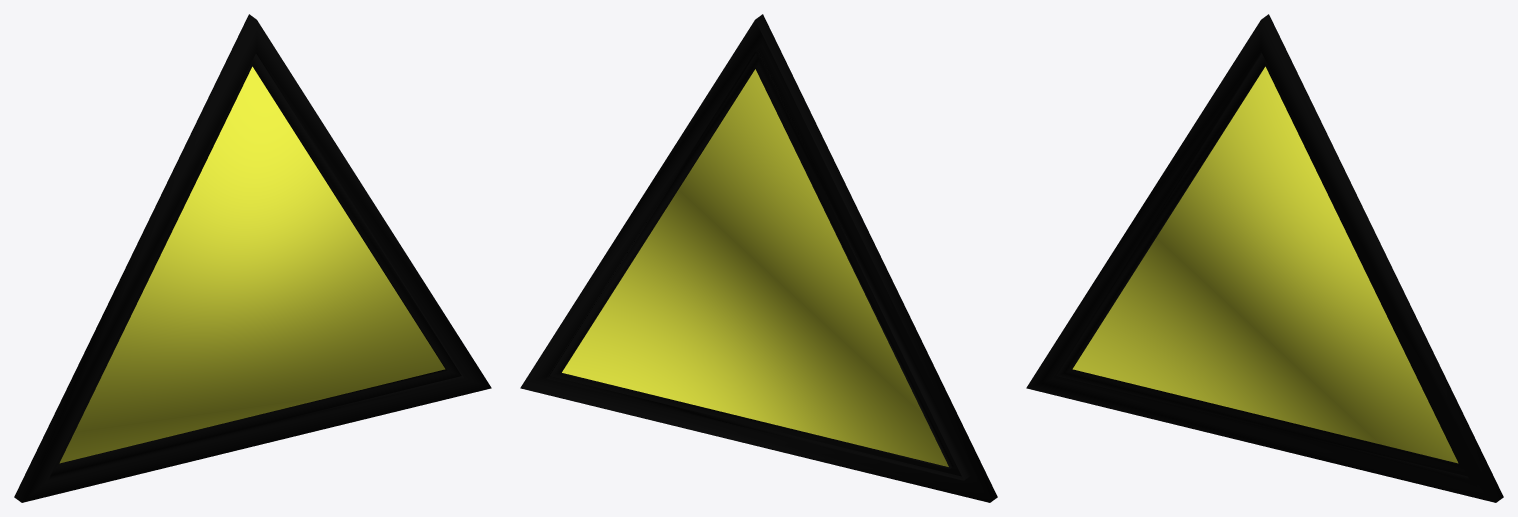
Rendered from TRIANGLE.dae.
3 renders of one model, left to right at view 1: azimuth 30°, elevation 25°; view 2: azimuth 150°, elevation 25°; view 3: azimuth 330°, elevation 25°, orthographic.
Visible parts, largest first — view 1: Circle; view 2: Circle; view 3: Circle.
Part boxes in pixels (x1,y1,x2,y2): Circle: (14, 14, 491, 502); Circle: (520, 14, 997, 502); Circle: (1026, 14, 1503, 502).
Bounding box in the file's own units: 1.73 × 0.0501 × 1.5.
